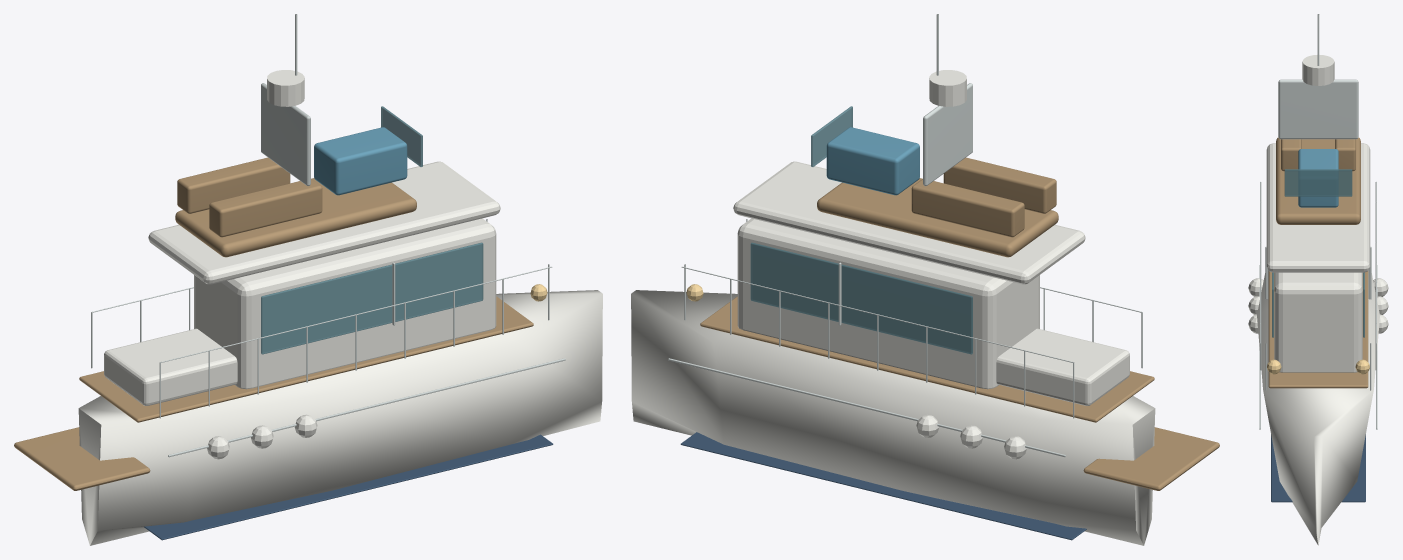
3 views of the same model, side by side, from view 1: azimuth 30°, elevation 25°; view 2: azimuth 150°, elevation 25°; view 3: azimuth 270°, elevation 25° (orthographic). The views are drawn at different scales.
Visible parts, largest first — view 1: yacht ceramic gelcoat, yacht weathered deck teak, yacht continuous smoked bridge glazing, yacht polished stainless rail, upper console, deep navy waterline; view 2: yacht ceramic gelcoat, yacht weathered deck teak, yacht continuous smoked bridge glazing, yacht polished stainless rail, upper console, deep navy waterline; view 3: yacht ceramic gelcoat, yacht weathered deck teak, yacht polished stainless rail, yacht continuous smoked bridge glazing, upper console, deep navy waterline, yacht navigation light.
Part boxes in pixels (x1=…): yacht ceramic gelcoat: x1=78, y1=70, x2=602, y2=545; yacht weathered deck teak: x1=14, y1=157, x2=533, y2=490; yacht continuous smoked bridge glazing: x1=261, y1=106, x2=483, y2=354; yacht polished stainless rail: x1=91, y1=14, x2=565, y2=457; upper console: x1=314, y1=127, x2=407, y2=195; deep navy waterline: x1=144, y1=434, x2=553, y2=540; yacht ceramic gelcoat: x1=631, y1=70, x2=1155, y2=545; yacht weathered deck teak: x1=700, y1=157, x2=1219, y2=490; yacht continuous smoked bridge glazing: x1=750, y1=106, x2=972, y2=354; yacht polished stainless rail: x1=668, y1=14, x2=1142, y2=457; upper console: x1=826, y1=127, x2=919, y2=195; deep navy waterline: x1=680, y1=432, x2=1086, y2=540; yacht ceramic gelcoat: x1=1248, y1=55, x2=1388, y2=545; yacht weathered deck teak: x1=1268, y1=137, x2=1368, y2=388; yacht polished stainless rail: x1=1259, y1=14, x2=1377, y2=429; yacht continuous smoked bridge glazing: x1=1272, y1=169, x2=1364, y2=337; upper console: x1=1298, y1=149, x2=1338, y2=207; deep navy waterline: x1=1271, y1=434, x2=1365, y2=502; yacht navigation light: x1=1267, y1=359, x2=1369, y2=374.
Bounding box in the file's own units: 19.44 × 16.05 × 5.03.
